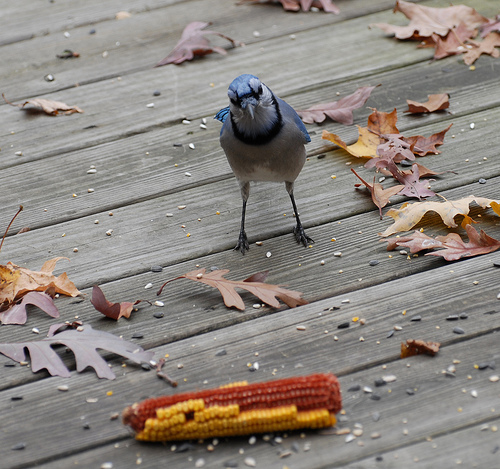corn: (119, 370, 341, 442)
